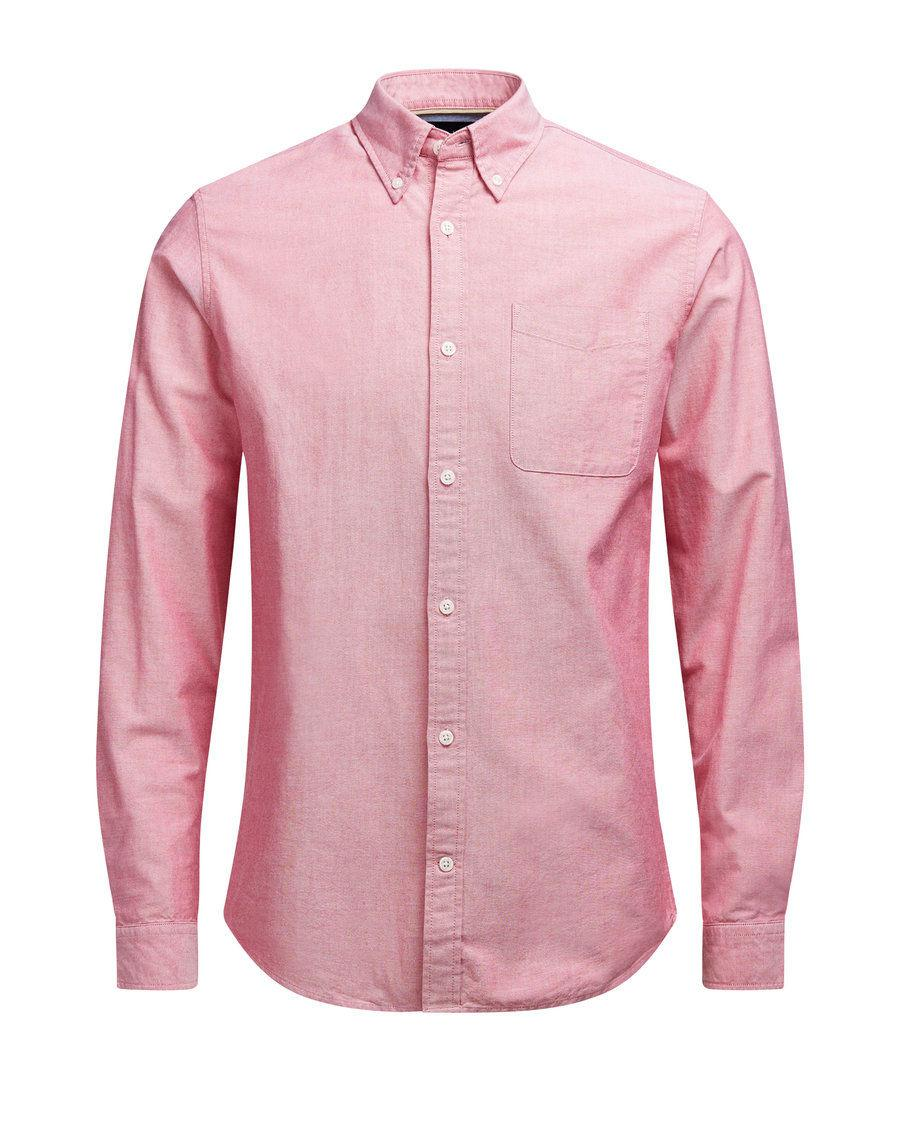teeshirt: (72, 57, 822, 1031)
